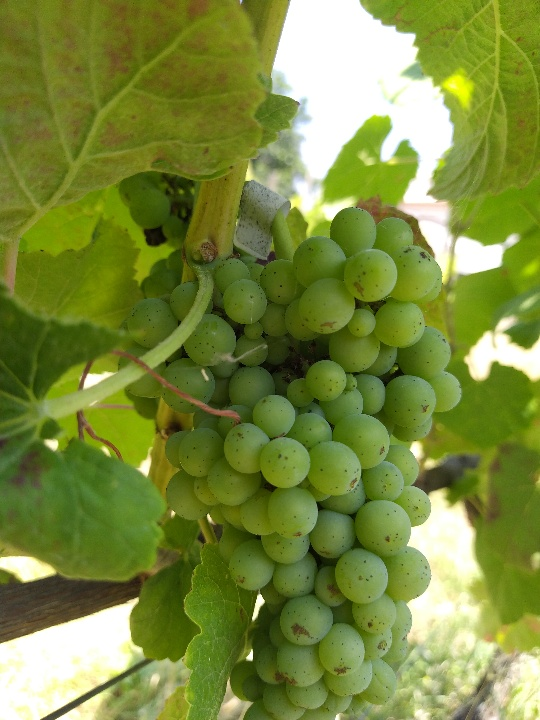grape: (116, 207, 463, 719)
